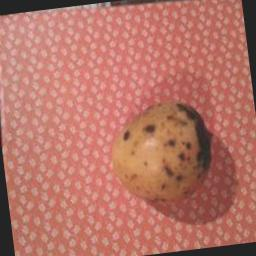Mango Rotten: (87, 86, 239, 212)
